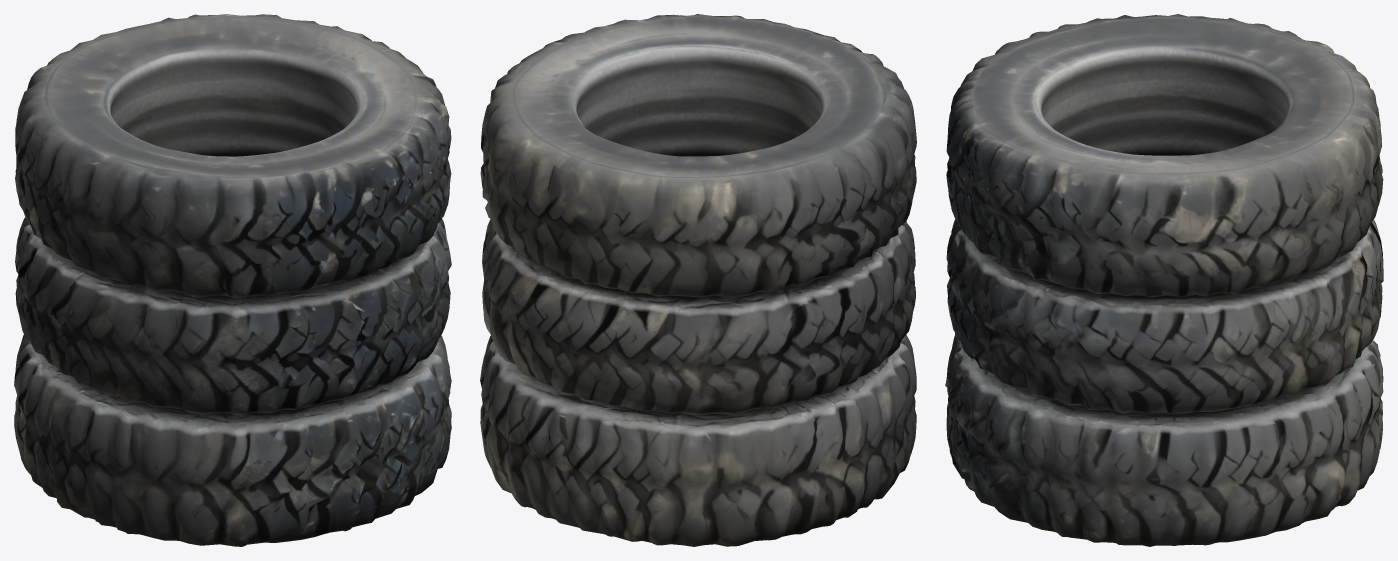
File: tire-stack.glb
The picture shows the model from 3 angles, left to right: view 1: azimuth 30°, elevation 25°; view 2: azimuth 150°, elevation 25°; view 3: azimuth 270°, elevation 25°; orthographic projection.
Visible parts, largest first — view 1: model; view 2: model; view 3: model.
Part boxes in pixels (x1=…): model: x1=14, y1=14, x2=451, y2=546; model: x1=480, y1=14, x2=916, y2=546; model: x1=945, y1=14, x2=1383, y2=546.
Bounding box in the file's own units: 1.85 × 1.73 × 1.86.
1 material, 1 textured.
